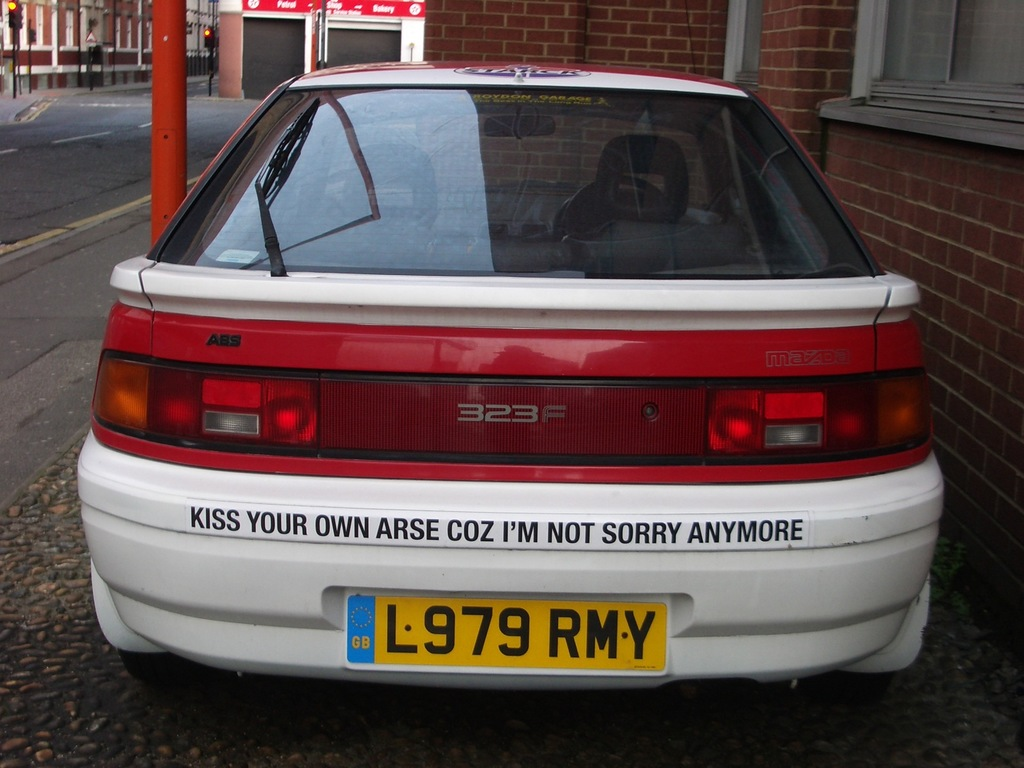license plate: (348, 600, 662, 671)
